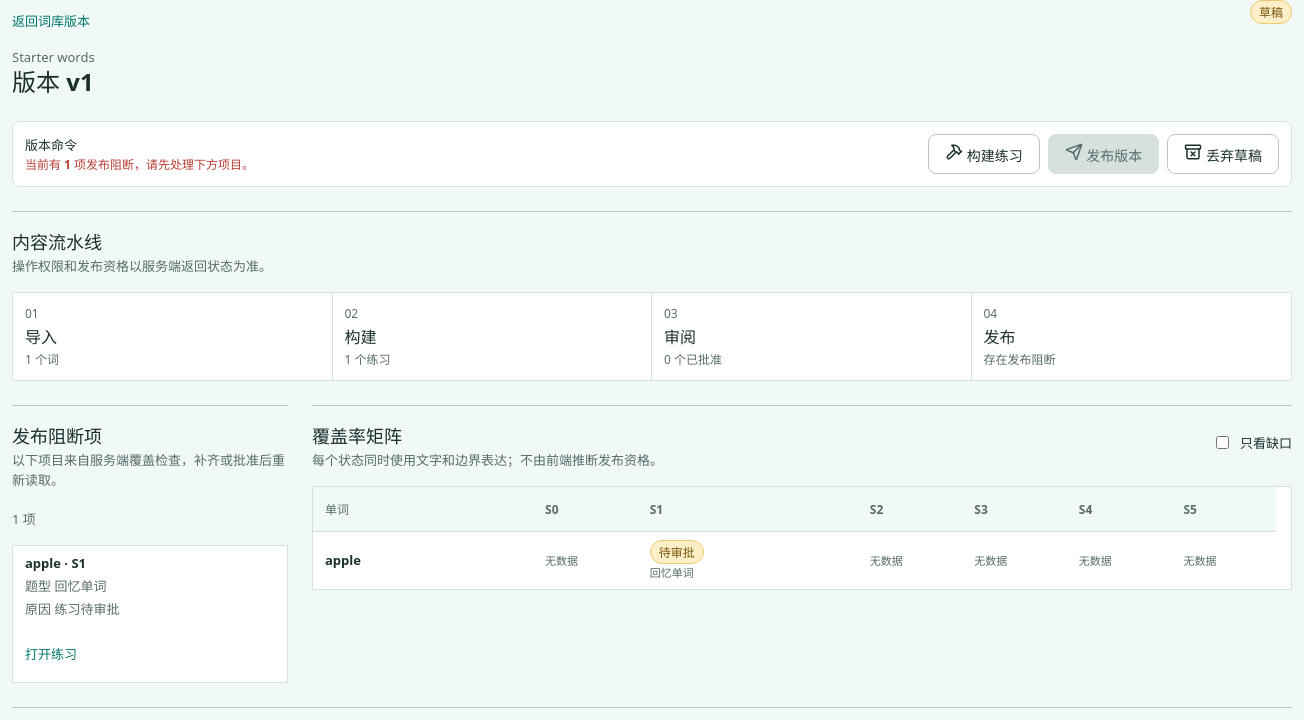
Test case: SourceVersionDetailPage › re-reads the complete server workspace after discarding a draft
The image size is (1304, 720).
Click the button "丢弃草稿" at (1223, 154), box x1=1167 y1=134 x2=1279 y2=174
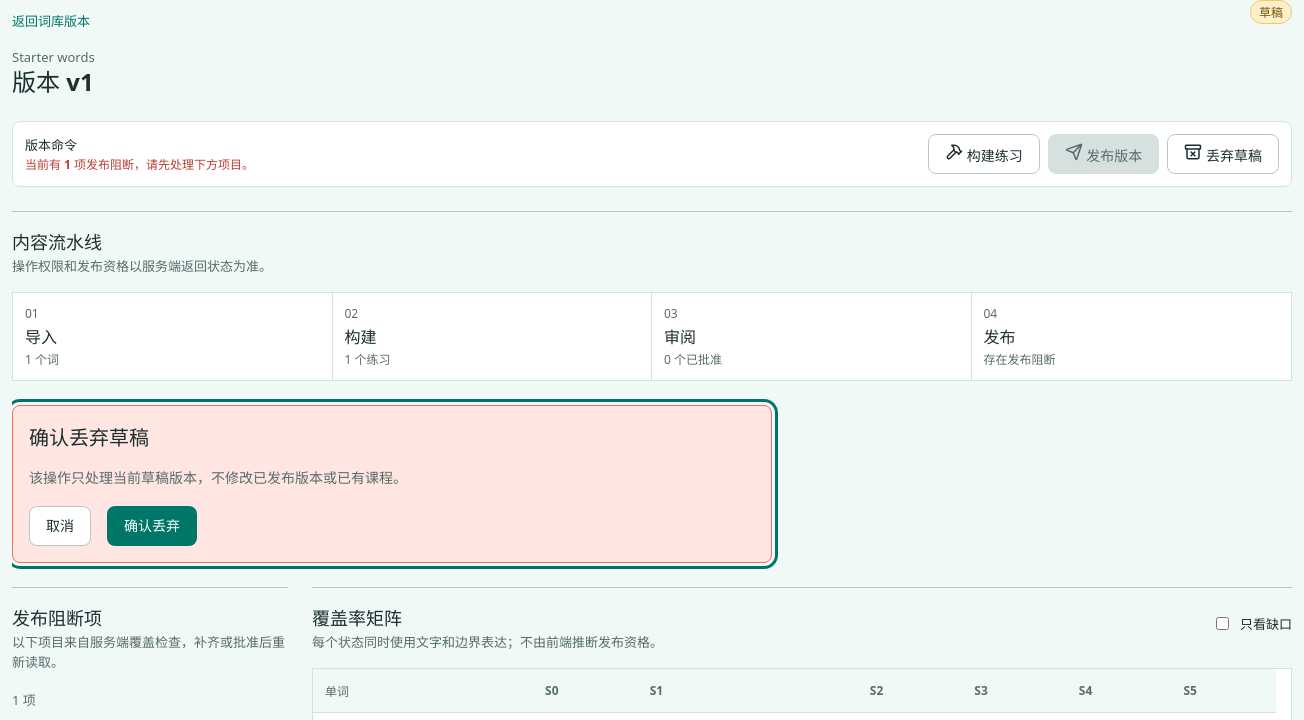
Click the button "确认丢弃" at (152, 526), box x1=107 y1=506 x2=197 y2=546
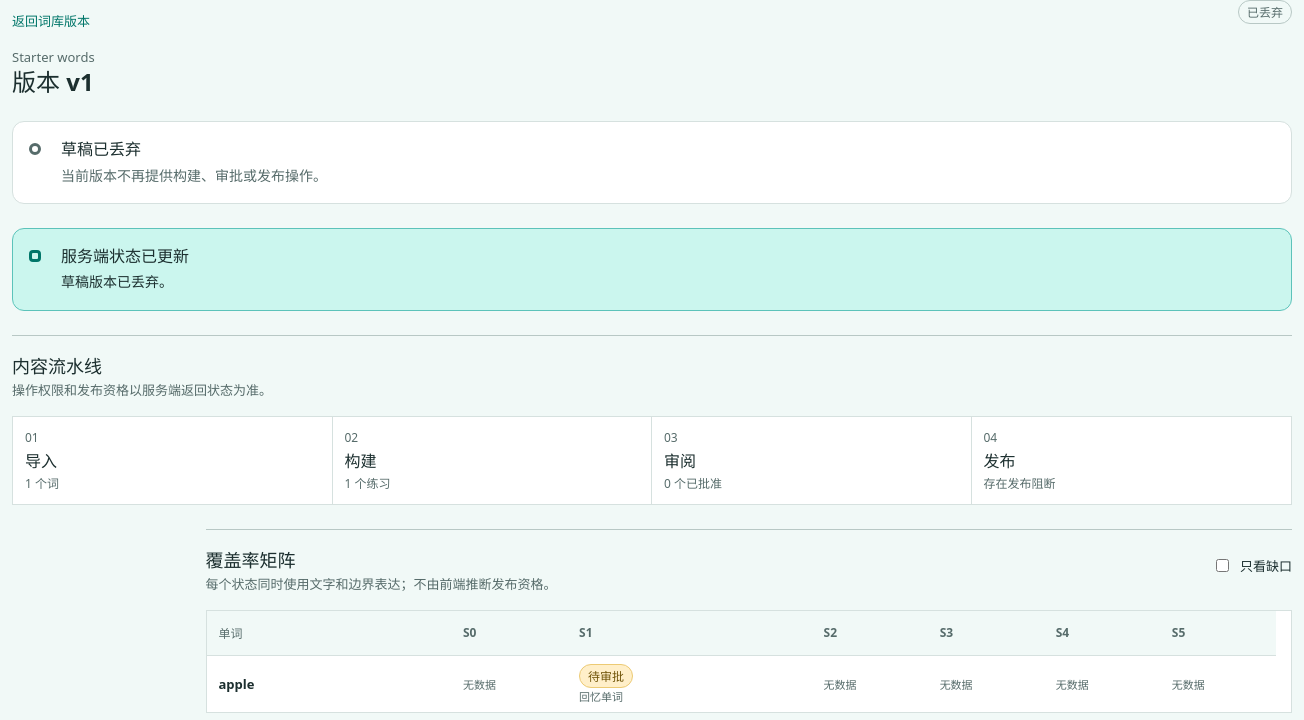
Check: the text "草稿已丢弃" is shown, box x1=61 y1=138 x2=141 y2=160
